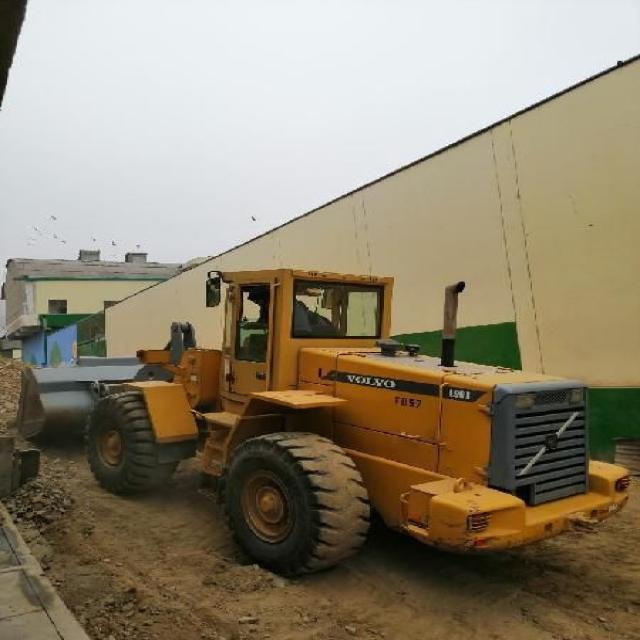buldozerpayloadergrader: (8, 255, 635, 573)
